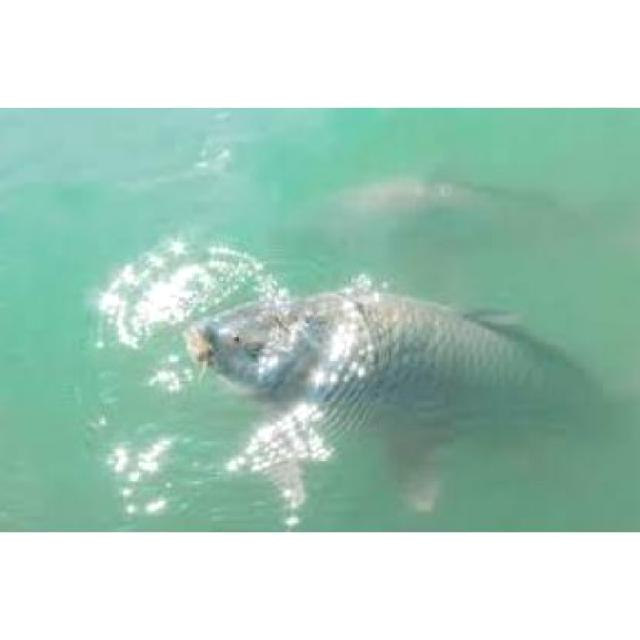ikan-mas: (180, 270, 616, 462)
